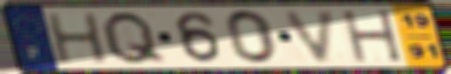0: (223, 9, 282, 65)
6: (172, 10, 224, 64)
H: (339, 9, 406, 64), (44, 11, 112, 65)
Q: (98, 10, 170, 66)
V: (281, 8, 341, 65)
